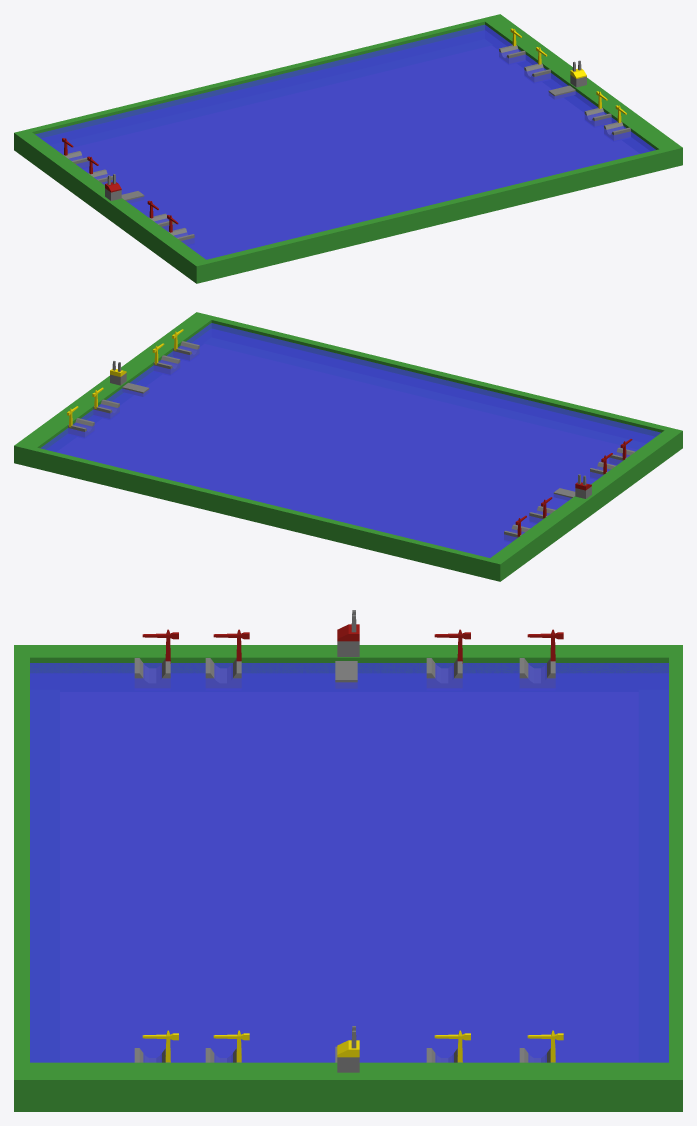
The model's file is Map.fbx.
The picture shows the model from 3 angles, top to bottom: view 1: azimuth 30°, elevation 25°; view 2: azimuth 150°, elevation 25°; view 3: azimuth 270°, elevation 25°; orthographic projection. The views are drawn at different scales.
Visible parts, largest first — view 1: Water, MapWall, P2_PierBuildings, P1_PierBuildings; view 2: Water, MapWall, P1_PierBuildings, P2_PierBuildings; view 3: Water, MapWall, P1_PierBuildings, P2_PierBuildings, P1_CargoSpaceDock, P1_BoatUpgradeDock, P1_BoatSpeedDock, P1_FishingSpeedDock.
Boxes of the visible parts, <box> form: Water: <box>35,24,655,259</box>; MapWall: <box>14,14,682,283</box>; P2_PierBuildings: <box>510,28,626,122</box>; P1_PierBuildings: <box>62,138,178,232</box>; Water: <box>40,323,660,557</box>; MapWall: <box>14,312,682,581</box>; P1_PierBuildings: <box>515,439,632,536</box>; P2_PierBuildings: <box>67,329,183,427</box>; Water: <box>30,663,668,1062</box>; MapWall: <box>14,645,682,1111</box>; P1_PierBuildings: <box>142,610,563,663</box>; P2_PierBuildings: <box>142,1026,563,1072</box>; P1_CargoSpaceDock: <box>519,658,555,688</box>; P1_BoatUpgradeDock: <box>134,658,170,688</box>; P1_BoatSpeedDock: <box>205,658,241,688</box>; P1_FishingSpeedDock: <box>426,658,462,688</box>.
Bounding box in the file's own units: 9239 × 726 × 6008.
